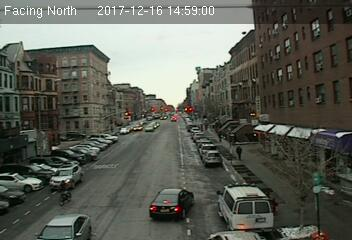bicycle: (55, 176, 74, 206)
car: (32, 212, 93, 240), (148, 186, 196, 219), (203, 150, 221, 165)
pedestrian: (235, 145, 244, 163)
police: (216, 182, 276, 232)
